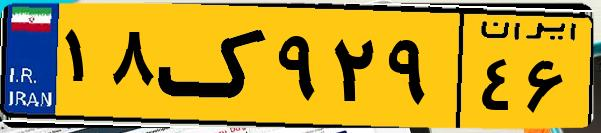1: (57, 26, 110, 100)
2: (330, 28, 385, 110)
4: (475, 38, 525, 113)
6: (525, 38, 570, 115)
8: (110, 28, 158, 98)
9: (270, 28, 330, 110), (385, 28, 445, 110)
ک: (158, 12, 270, 120)
